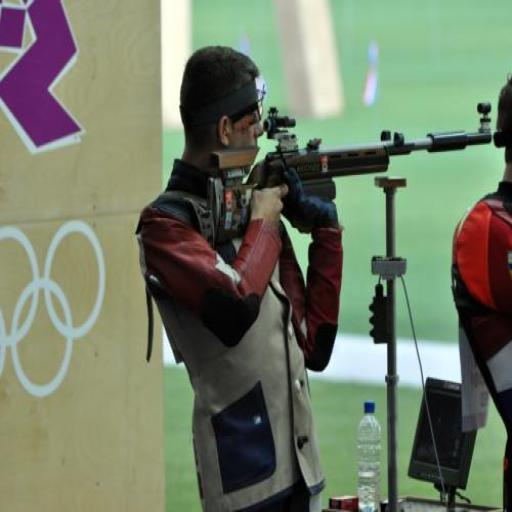shooting: (134, 43, 347, 511), (448, 68, 511, 510)
